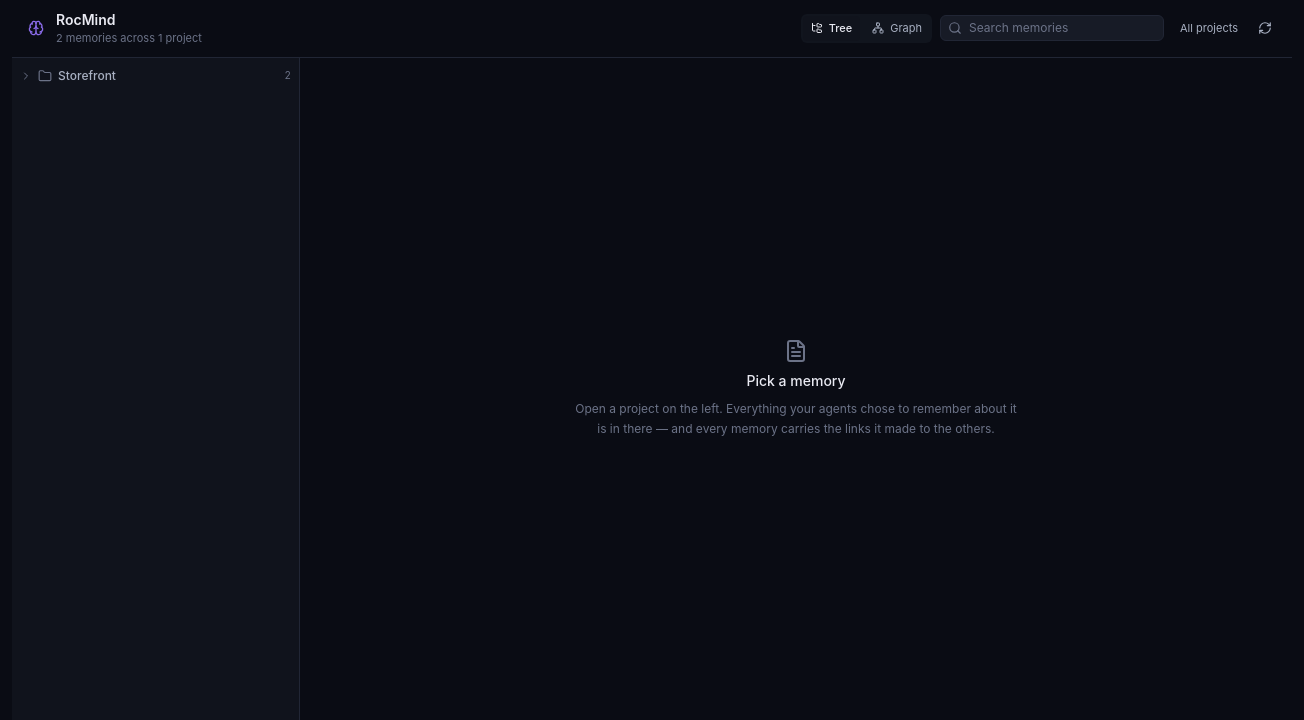
Test: the graph › gets the whole surface rather than the 288px tree rail
Click the tab "Graph" at (897, 28), box x1=864 y1=16 x2=930 y2=40
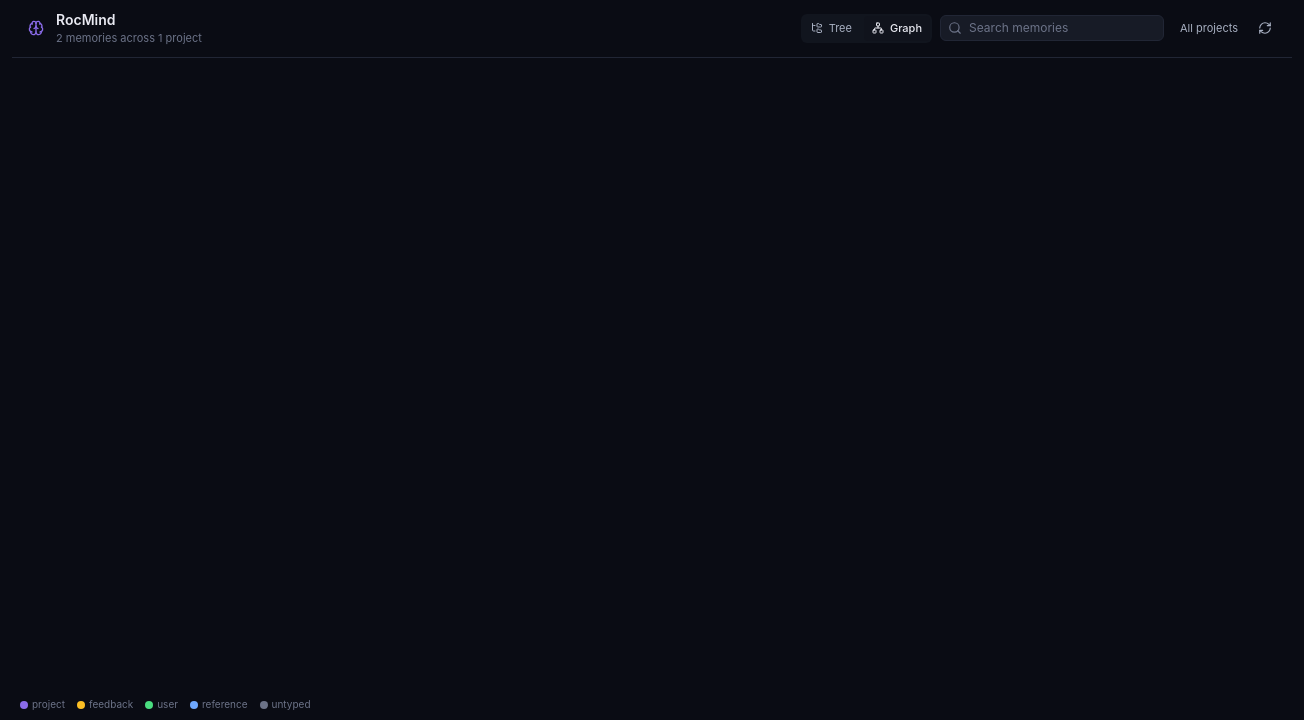
Check: the text "Pick a memory" is gone
